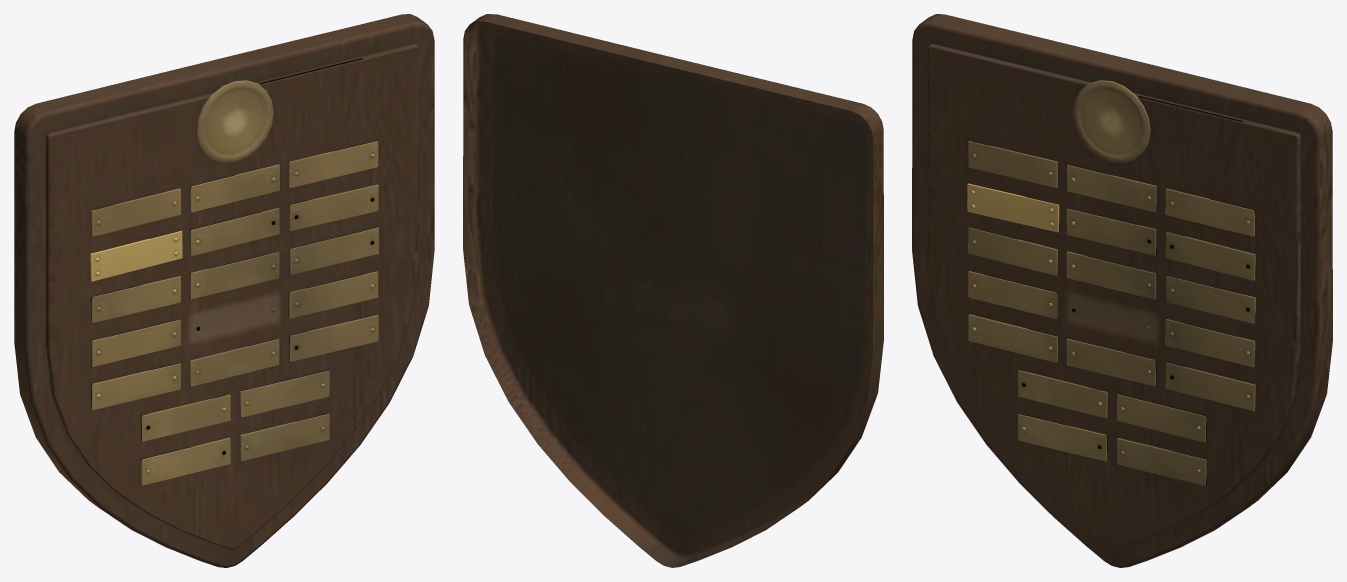
File: trophy-shield.glb
The picture shows the model from 3 angles, left to right: view 1: azimuth 30°, elevation 25°; view 2: azimuth 150°, elevation 25°; view 3: azimuth 330°, elevation 25°; orthographic projection.
Visible parts, largest first — view 1: shield; view 2: shield; view 3: shield.
Boxes of the visible parts, bbox=[...] form: shield: bbox=[14, 14, 434, 567]; shield: bbox=[463, 14, 883, 567]; shield: bbox=[912, 14, 1332, 567].
Bounding box in the file's own units: 0.34 × 0.3968 × 0.0248.
1 material, 1 textured.
